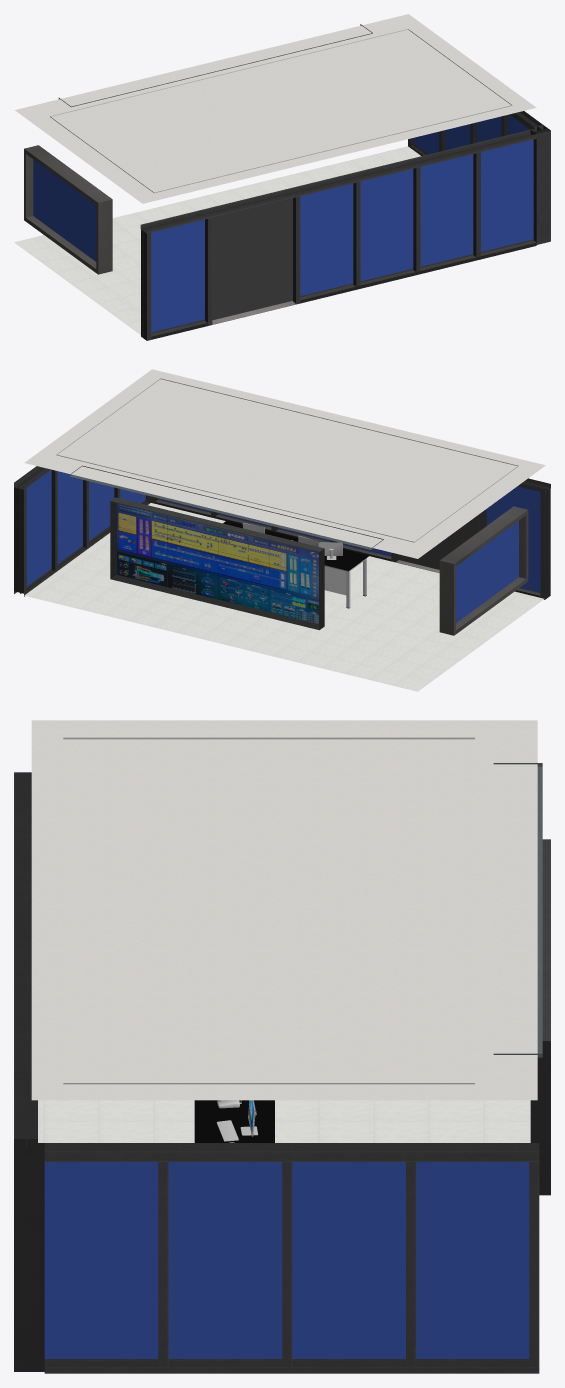
Rendered from JianKongShi.FBX.
3 renders of one model, top to bottom at view 1: azimuth 30°, elevation 25°; view 2: azimuth 150°, elevation 25°; view 3: azimuth 270°, elevation 25°, orthographic. The views are drawn at different scales.
Visible parts, largest first — view 1: YF_Model_ding01, YF_Model_BoLi, YF_Model_menkuang, YF_Model_dimian, YF_Model_JianKongShi_men, YF_Model_chuang01, YF_Model_ding (×2); view 2: YF_Model_ding01, YF_Model_dimian, YF_Model_ping, YF_Model_BoLi, YF_Model_menkuang, YF_Model_chuang01, YF_Model_ding (×2), YF_Model_zhuozi01, YF_Model_JianKongShi_men; view 3: YF_Model_ding01, YF_Model_BoLi, YF_Model_menkuang, YF_Model_dimian, YF_Model_ping, YF_Model_ding (×2), YF_Model_zhuozi02.
Boxes of the visible parts, box(x1,y1,x2,y2) form: YF_Model_ding01: box(15, 14, 536, 203); YF_Model_BoLi: box(33, 114, 533, 332); YF_Model_menkuang: box(140, 111, 550, 340); YF_Model_dimian: box(14, 146, 421, 334); YF_Model_JianKongShi_men: box(212, 198, 292, 320); YF_Model_chuang01: box(24, 145, 112, 274); YF_Model_ding (×2): box(50, 24, 512, 193); YF_Model_ding01: box(24, 369, 545, 558); YF_Model_dimian: box(24, 503, 543, 691); YF_Model_ping: box(110, 497, 324, 630); YF_Model_BoLi: box(26, 470, 540, 622); YF_Model_menkuang: box(14, 466, 550, 599); YF_Model_chuang01: box(439, 506, 528, 635); YF_Model_ding (×2): box(56, 378, 518, 549); YF_Model_zhuozi01: box(294, 538, 369, 608); YF_Model_JianKongShi_men: box(398, 514, 479, 569); YF_Model_ding01: box(31, 720, 537, 1100); YF_Model_BoLi: box(44, 1162, 529, 1358); YF_Model_menkuang: box(14, 772, 539, 1373); YF_Model_dimian: box(38, 1100, 530, 1142); YF_Model_ping: box(530, 839, 550, 1195); YF_Model_ding (×2): box(63, 737, 542, 1084); YF_Model_zhuozi02: box(194, 1103, 274, 1142).
Size of the model in its own units: 983 by 303 by 555.
